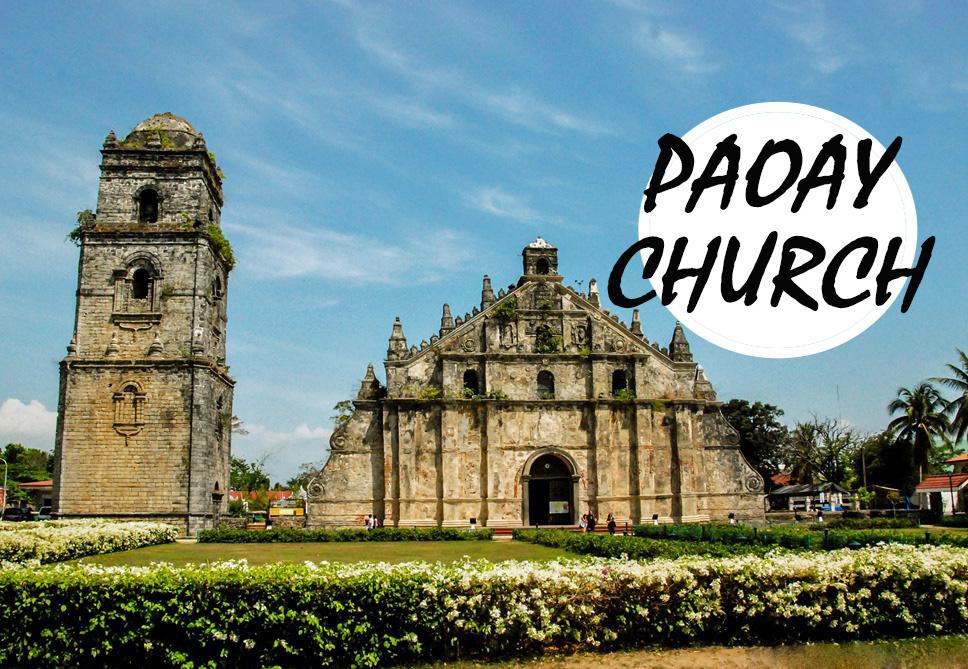paoay_church_paoay_ilocos_norte: (41, 97, 783, 540)
vegetation_damage: (199, 215, 243, 268), (72, 204, 102, 243), (539, 324, 570, 360), (461, 384, 511, 404), (492, 295, 523, 324), (417, 381, 447, 401), (613, 385, 643, 405)
